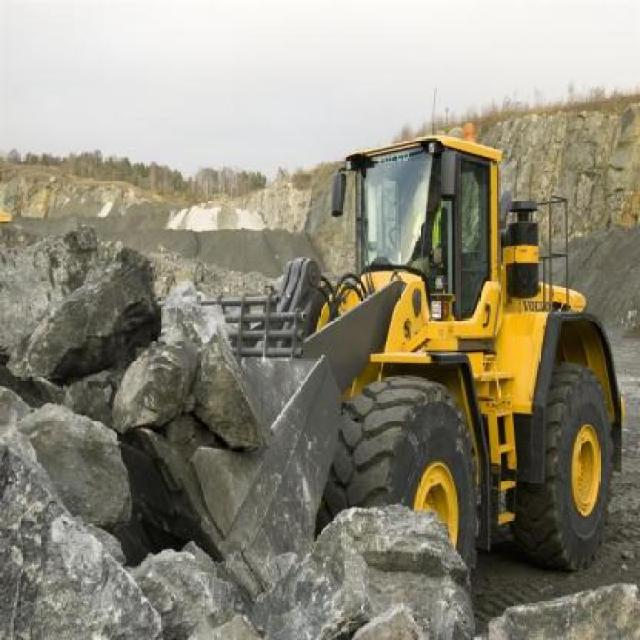buldozerpayloadergrader: (248, 116, 629, 590)
